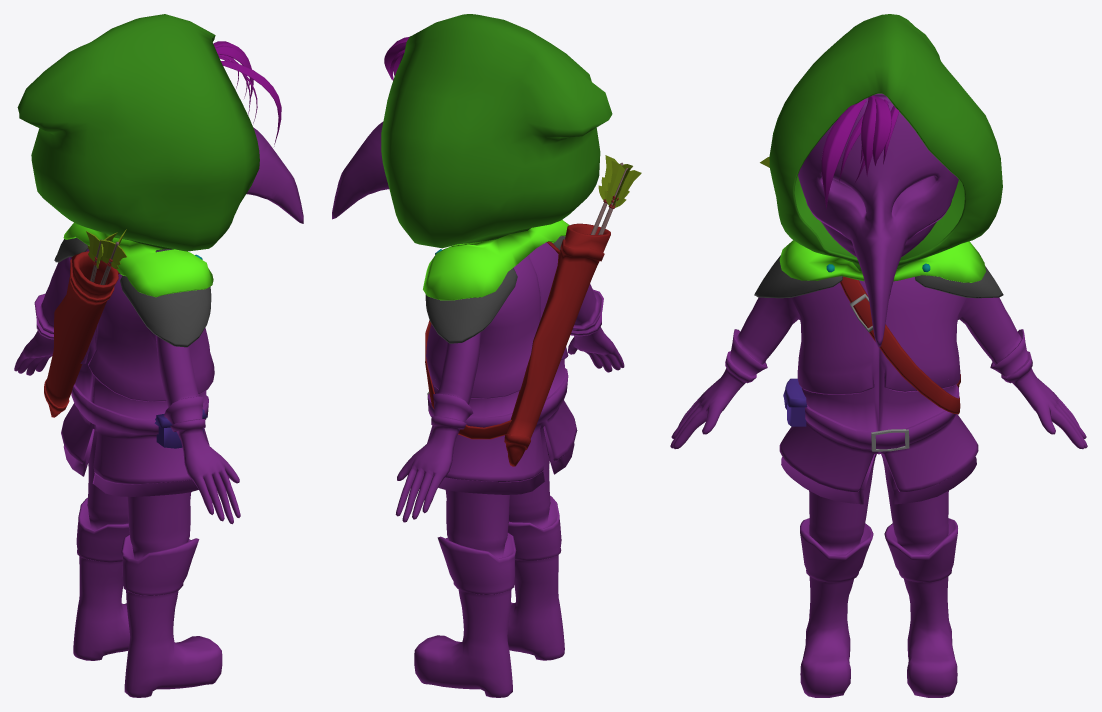
File: seiri_LowPoly_UVS.fbx
The picture shows the model from 3 angles, left to right: view 1: azimuth 30°, elevation 25°; view 2: azimuth 150°, elevation 25°; view 3: azimuth 270°, elevation 25°; orthographic projection.
Visible parts, largest first — view 1: Seiri-Model_UVS; view 2: Seiri-Model_UVS; view 3: Seiri-Model_UVS.
Boxes of the visible parts, <box> form: Seiri-Model_UVS: <box>14,14,303,697</box>; Seiri-Model_UVS: <box>332,14,641,697</box>; Seiri-Model_UVS: <box>670,14,1087,697</box>.
Bounding box in the file's own units: 30 × 66.01 × 38.21.
